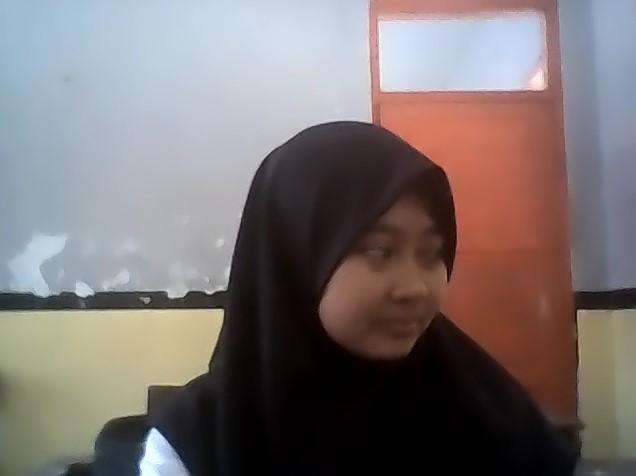cheating: (121, 97, 625, 476)
